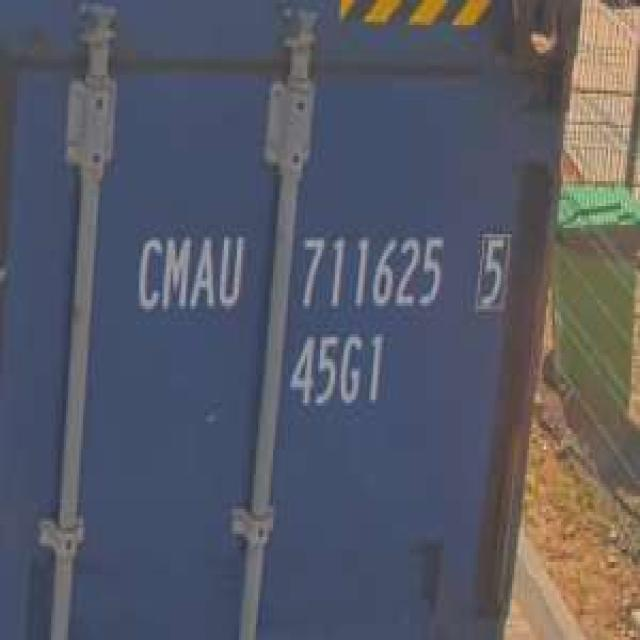dv: (469, 226, 516, 316)
owner: (134, 228, 248, 322)
serial: (298, 231, 452, 315)
size: (283, 327, 389, 412)
